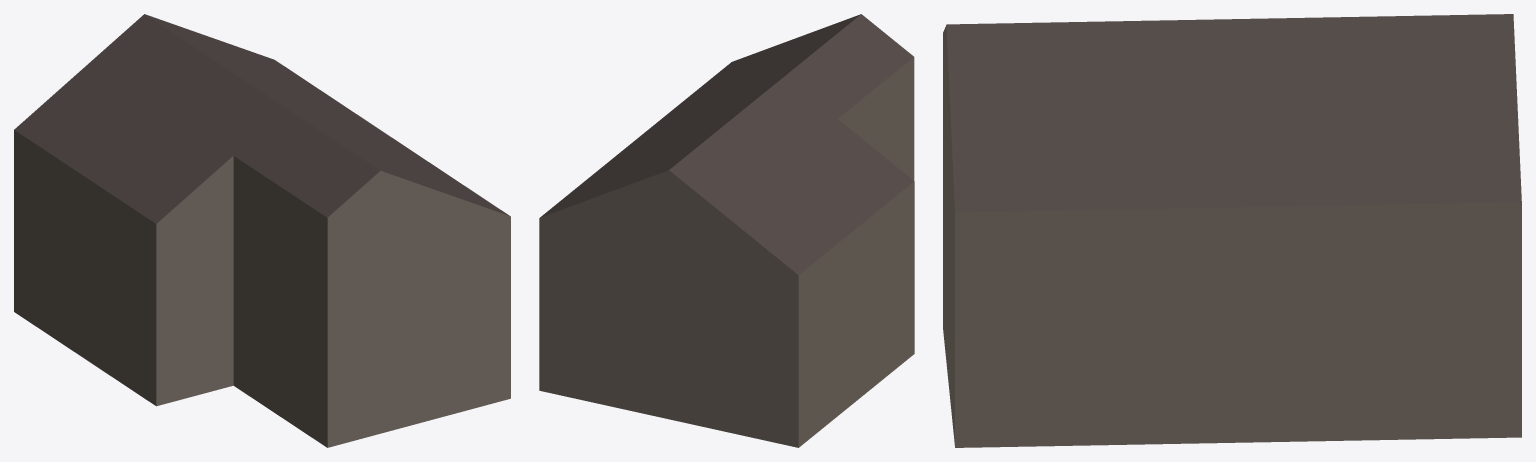
The picture shows the model from 3 angles, left to right: view 1: azimuth 30°, elevation 25°; view 2: azimuth 150°, elevation 25°; view 3: azimuth 270°, elevation 25°; orthographic projection. The views are drawn at different scales.
Visible parts, largest first — view 1: HP-w1376988735; view 2: HP-w1376988735; view 3: HP-w1376988735.
Part boxes in pixels (box(x1,y1,x2,y2)): HP-w1376988735: box(14, 14, 510, 447); HP-w1376988735: box(539, 14, 914, 447); HP-w1376988735: box(943, 14, 1521, 447).
Bounding box in the file's own units: 9.78 × 8.66 × 13.38.
